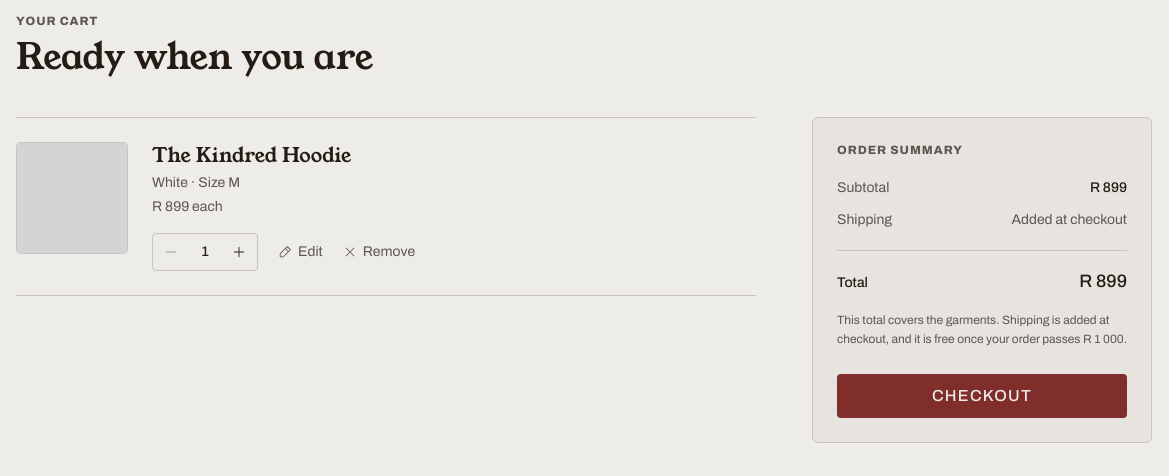
Scenario: CartView › shows the empty state once the last portrait is removed
What coordinates should you click on to do the following:
click the button with aria-label "Remove The Kindred Hoodie, White, size M from your cart"
I would click on:
 (379, 252)
Its box is [343, 242, 415, 262].
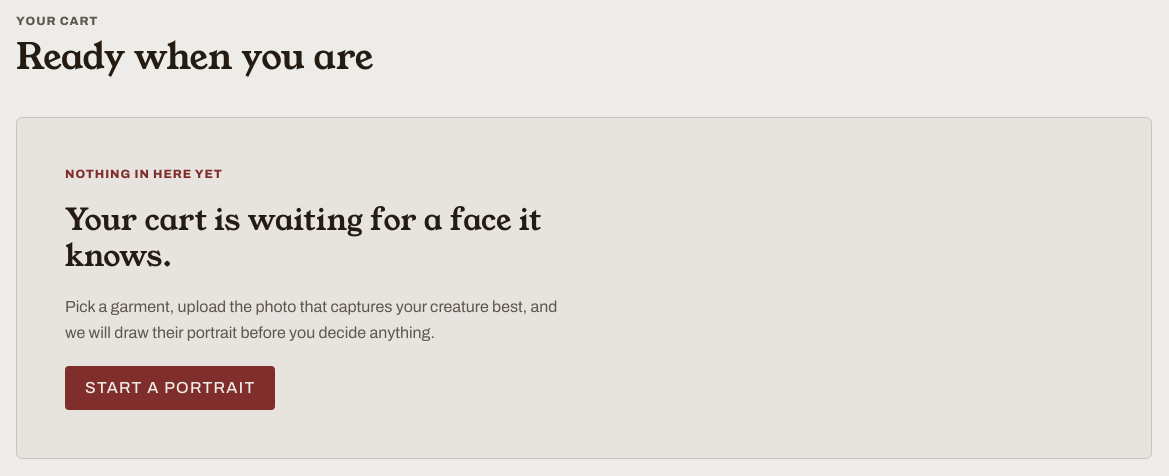
Expected: the heading "Your cart is waiting for a face it knows." is shown, [65, 202, 577, 274]
Expected: the link "The Kindred Hoodie" is gone
